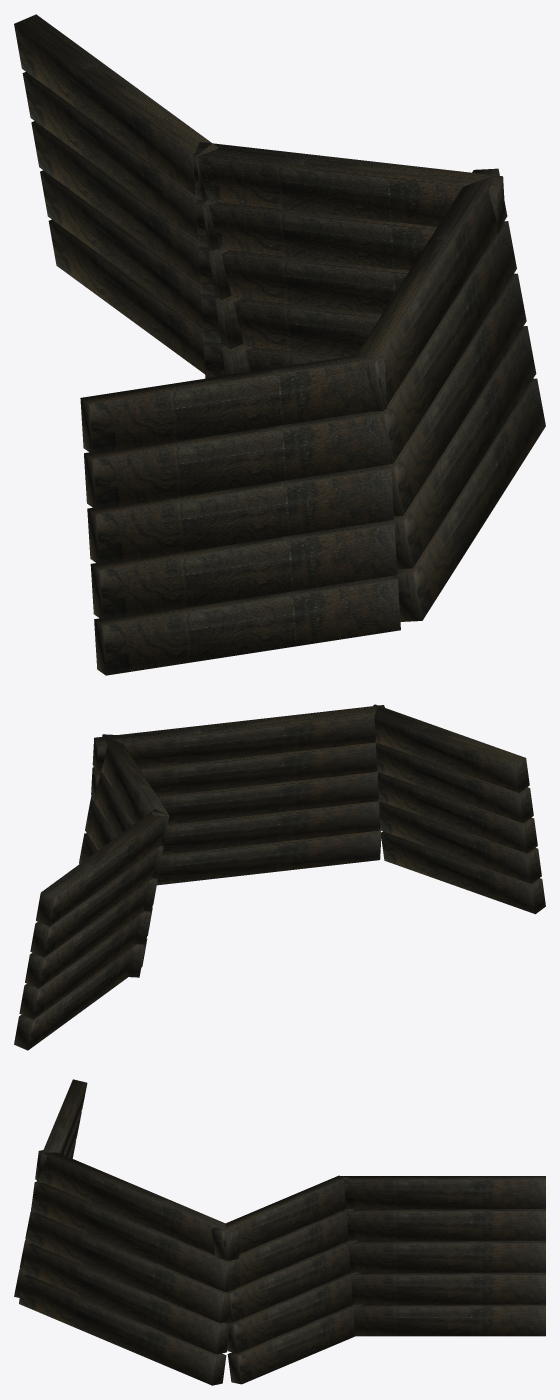
Rendered from WoodenBarrierPartTest13.obj.
The picture shows the model from 3 angles, top to bottom: view 1: azimuth 30°, elevation 25°; view 2: azimuth 150°, elevation 25°; view 3: azimuth 270°, elevation 25°; orthographic projection. The views are drawn at different scales.
Parts seen in each view (by area): view 1: Box002; view 2: Box002; view 3: Box002.
Boxes of the visible parts, x1,y1,x2,y2 form: Box002: (14, 14, 545, 675); Box002: (14, 704, 545, 1050); Box002: (14, 1079, 545, 1385).
Size of the model in its own units: 153 by 63.84 by 209.
